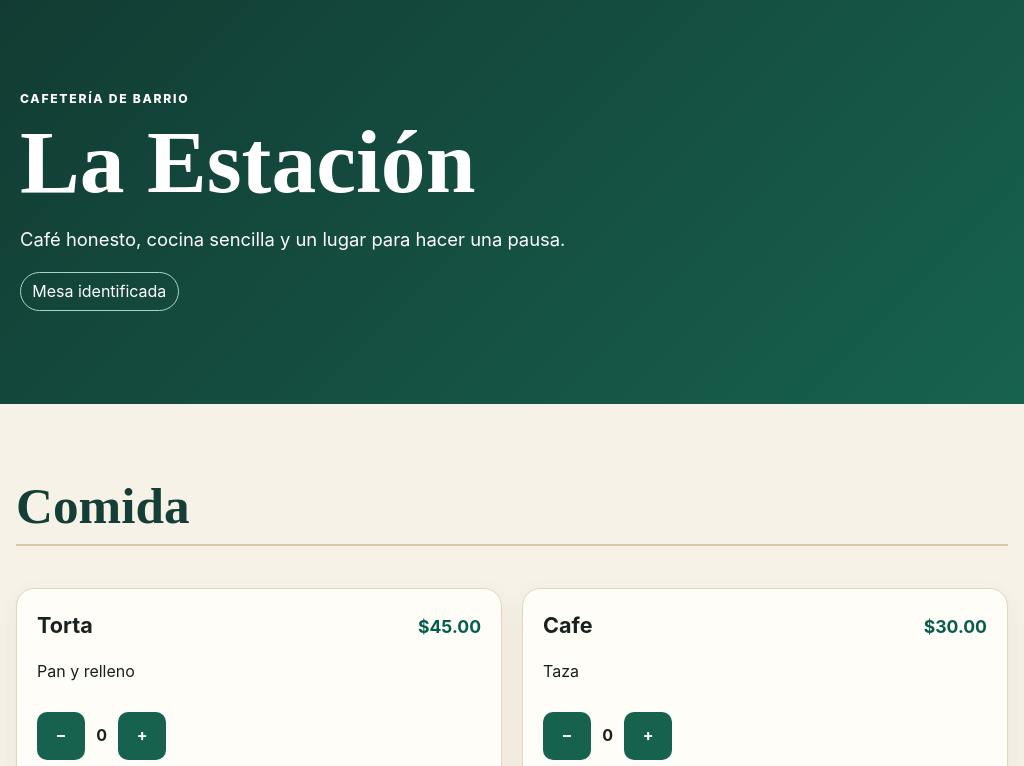
Pedido desde la carta publica › retira una linea y actualiza el precio de otra en un mismo conflicto
Expected: the heading "Torta" is shown, [37,610,93,643]
Click the button "+" below "Pan y relleno". click: click(142, 736)
box: [118,712,166,760]
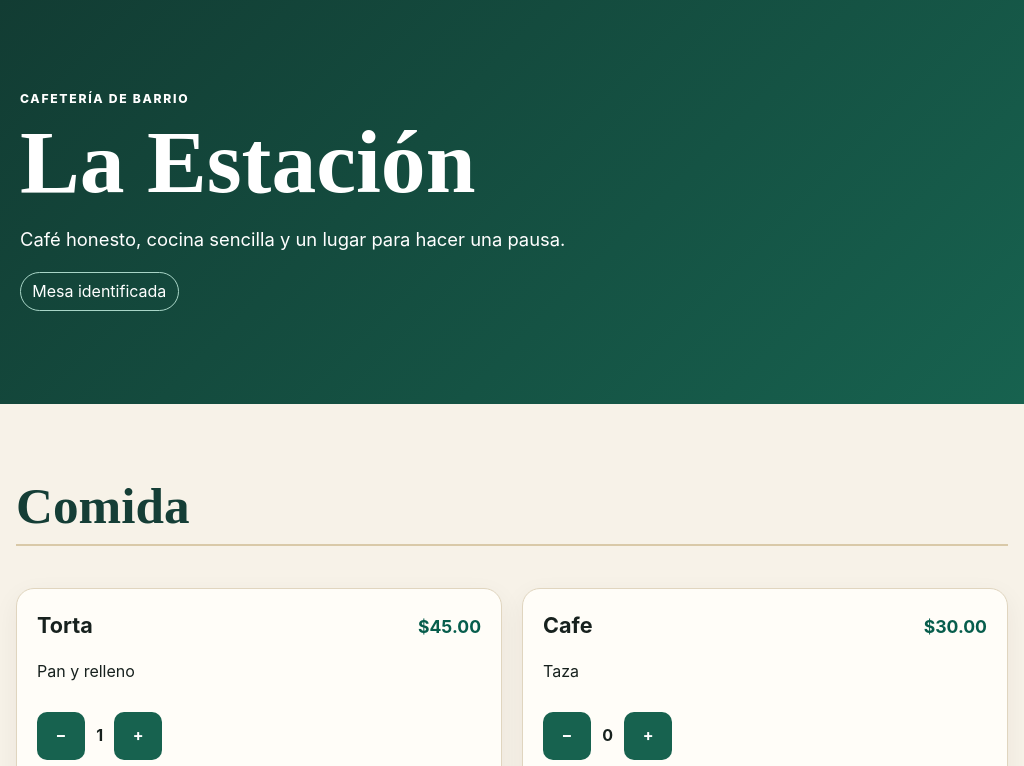
Click the button "+" below "Taza". click: click(648, 736)
box: [624,712,672,760]
(page scrolled)
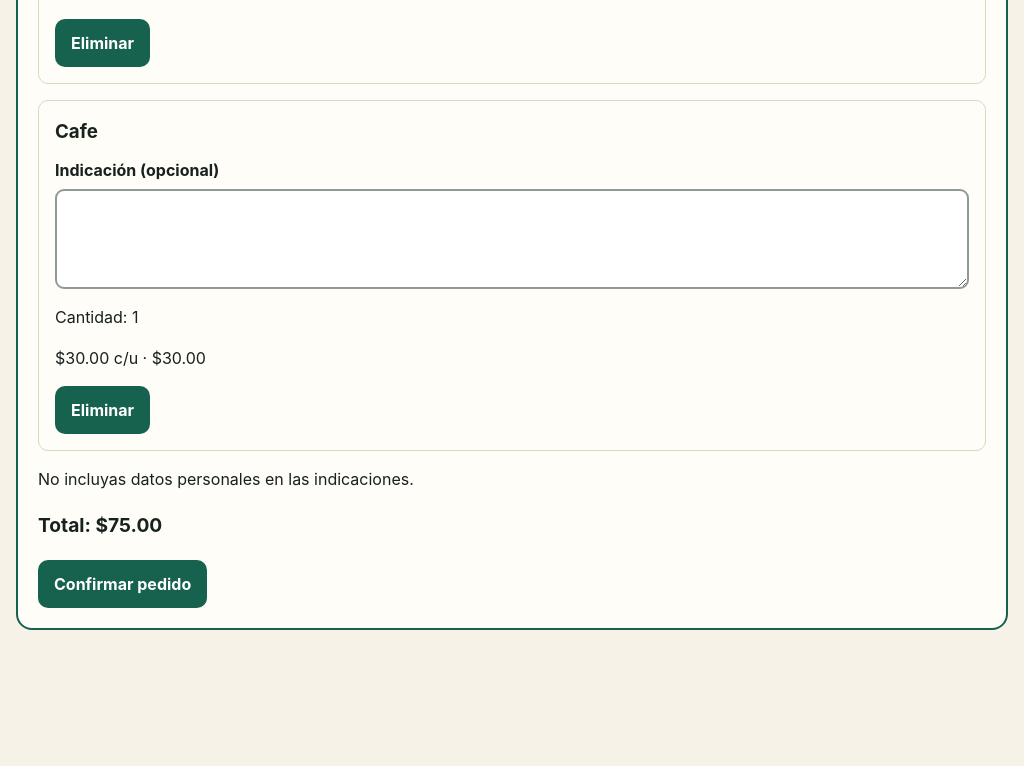
Click the button "Confirmar pedido". click: click(123, 584)
box: [38,560,207,608]
(page scrolled)
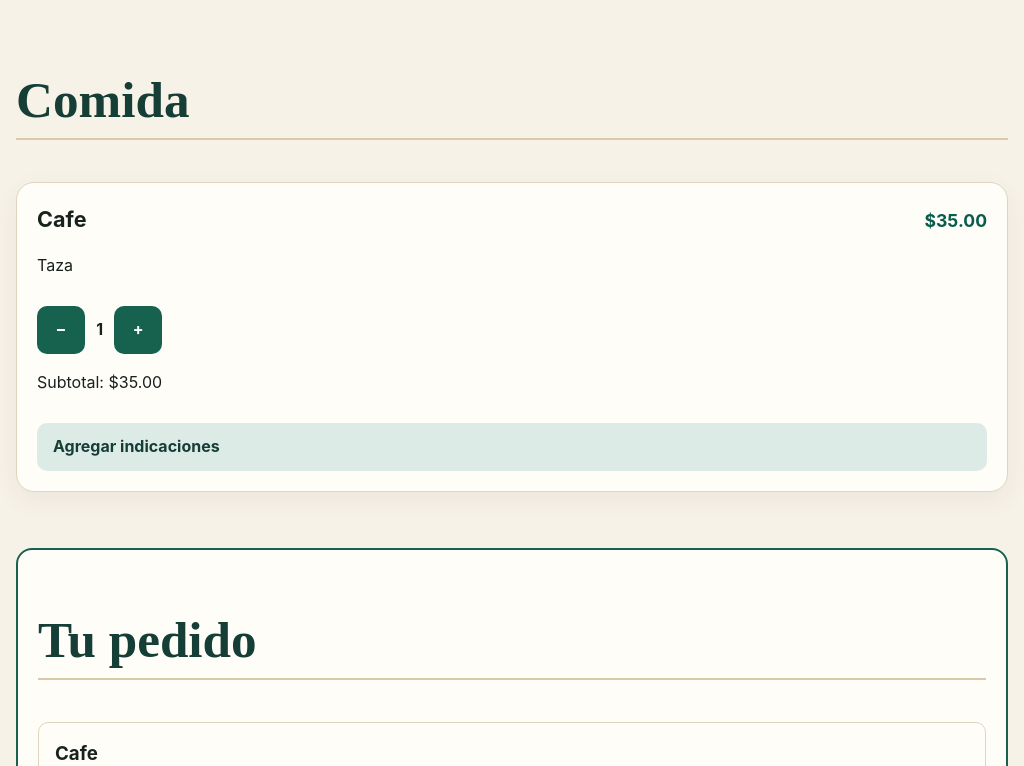
Expected: the heading "Torta" is not shown
Now the text "Subtotal: $35.00" is shown, box [37,372,162,392]
